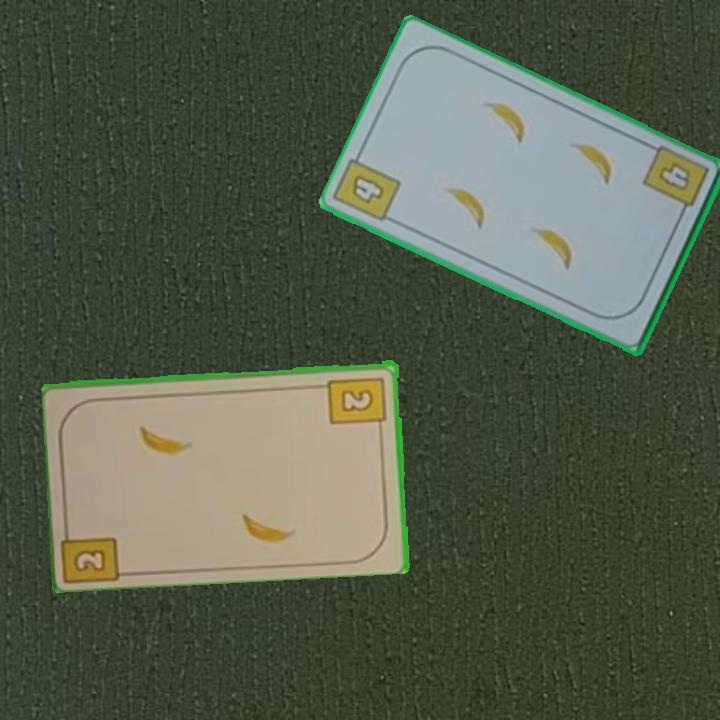2b: (61, 518, 125, 583), (326, 373, 389, 434)
4b: (639, 142, 712, 222), (347, 171, 387, 207)
